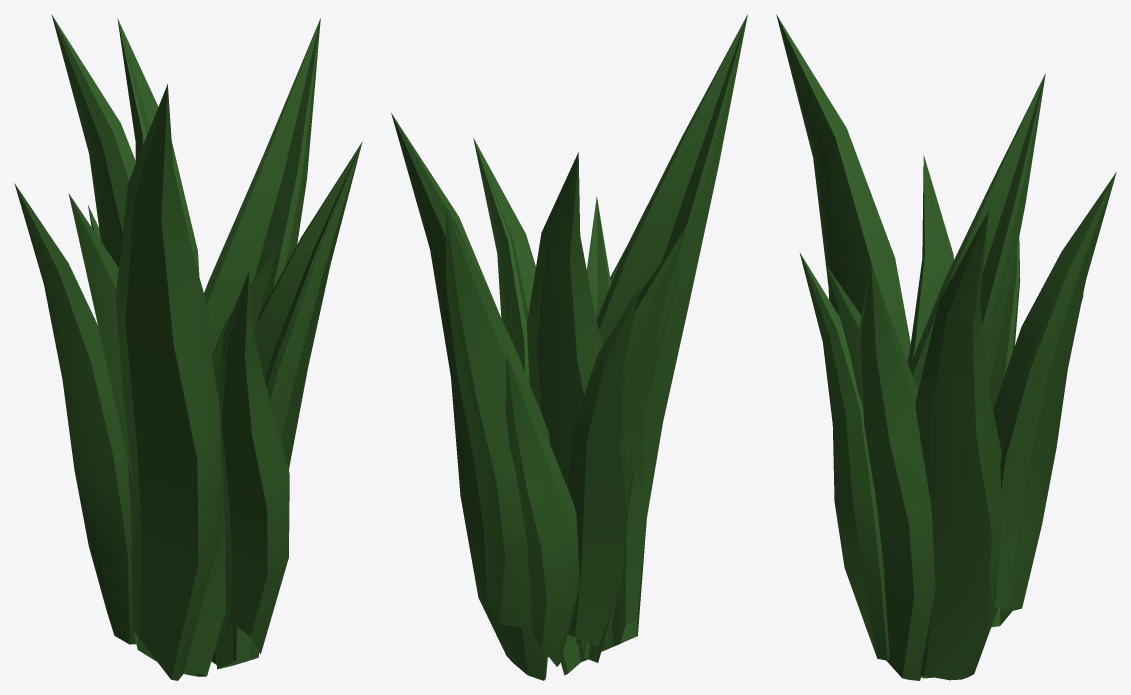
File: flower_1.fbx
3 views of the same model, side by side, from view 1: azimuth 30°, elevation 25°; view 2: azimuth 150°, elevation 25°; view 3: azimuth 270°, elevation 25° (orthographic). The views are drawn at different scales.
Visible parts, largest first — view 1: flower_1; view 2: flower_1; view 3: flower_1.
Boxes of the visible parts, x1,y1,x2,y2 form: flower_1: (14,14,362,680); flower_1: (391,14,747,680); flower_1: (776,14,1116,680).
Bounding box in the file's own units: 99.88 × 225 × 114.
